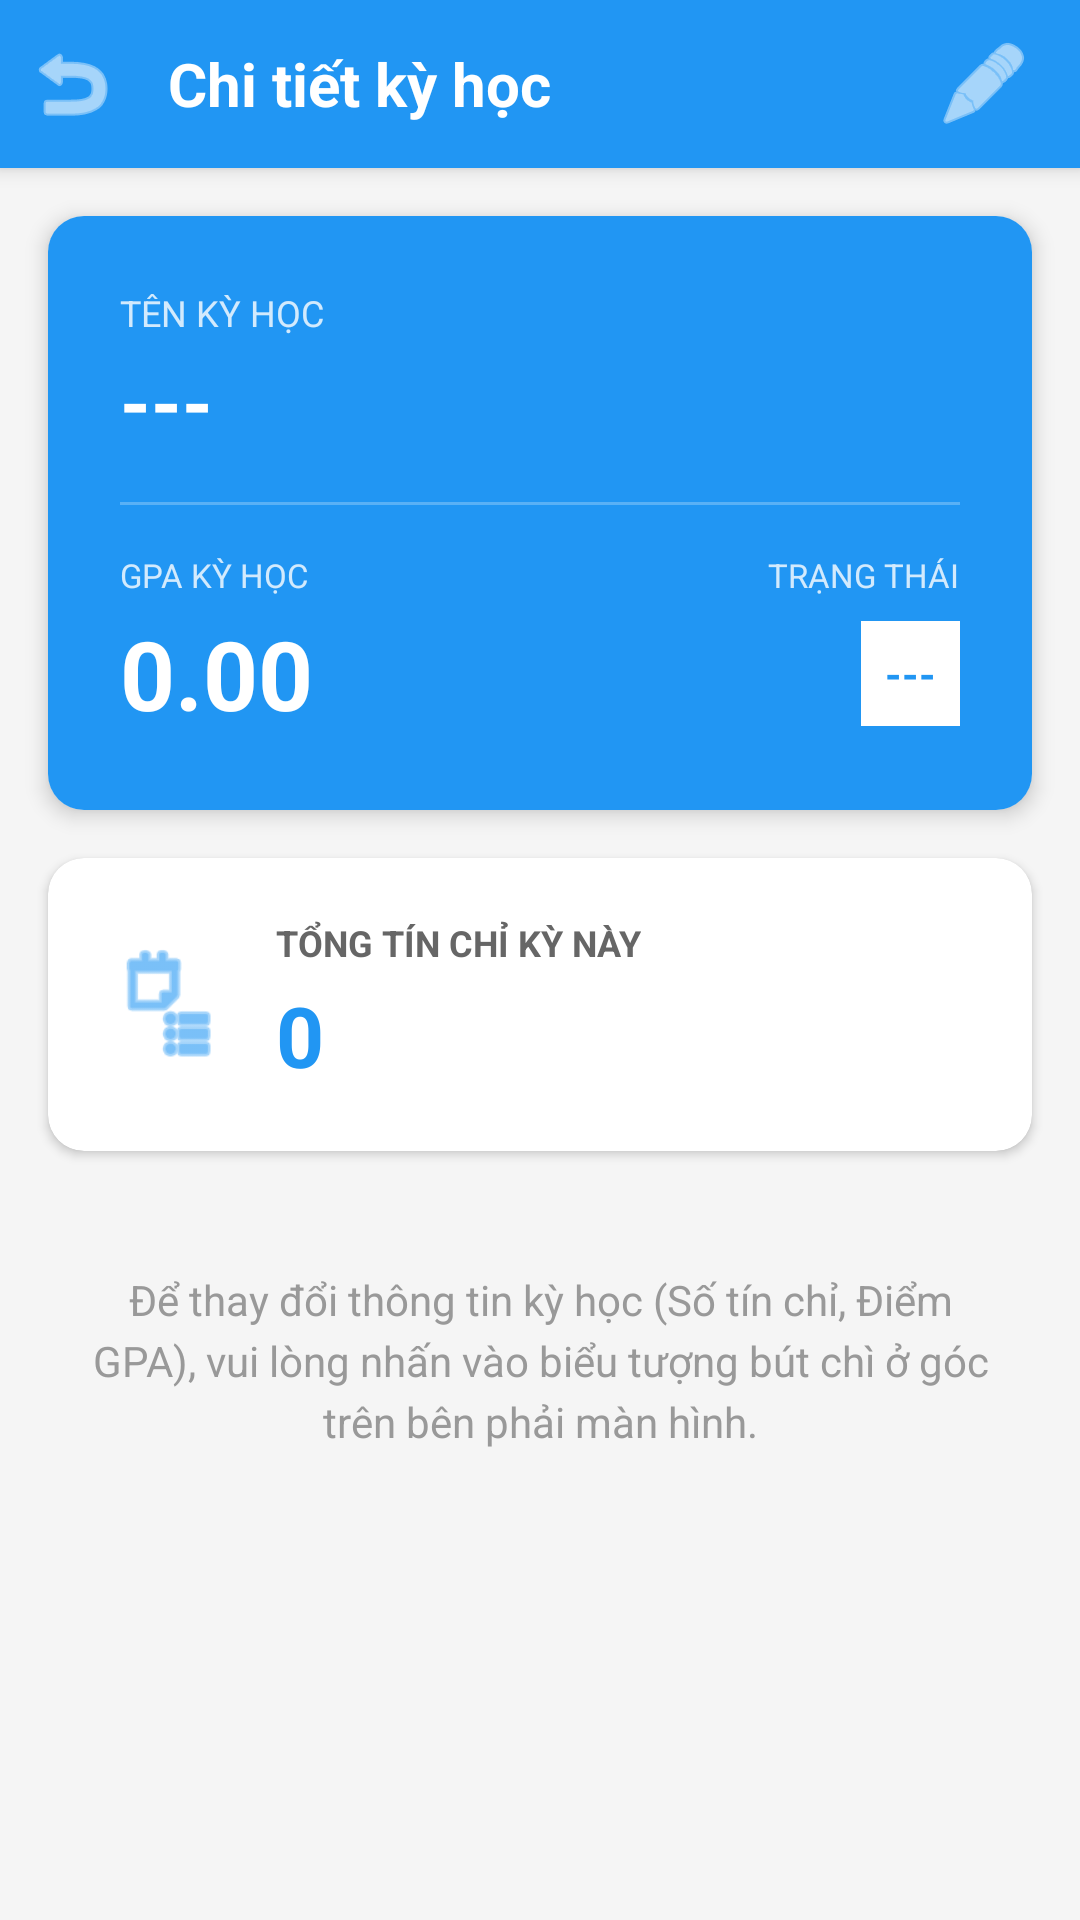

Locate icon controls on the screen. Image size 1080 × 1920, boxes as detection(x1, y1, x2, y2).
agenda: detection(126, 950, 211, 1057)
Chỉnh sửa: detection(943, 43, 1024, 124)
Quay lại: detection(39, 53, 108, 116)
